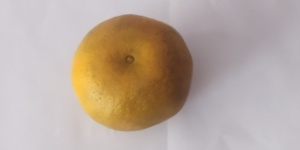BAD: (67, 12, 194, 135)
